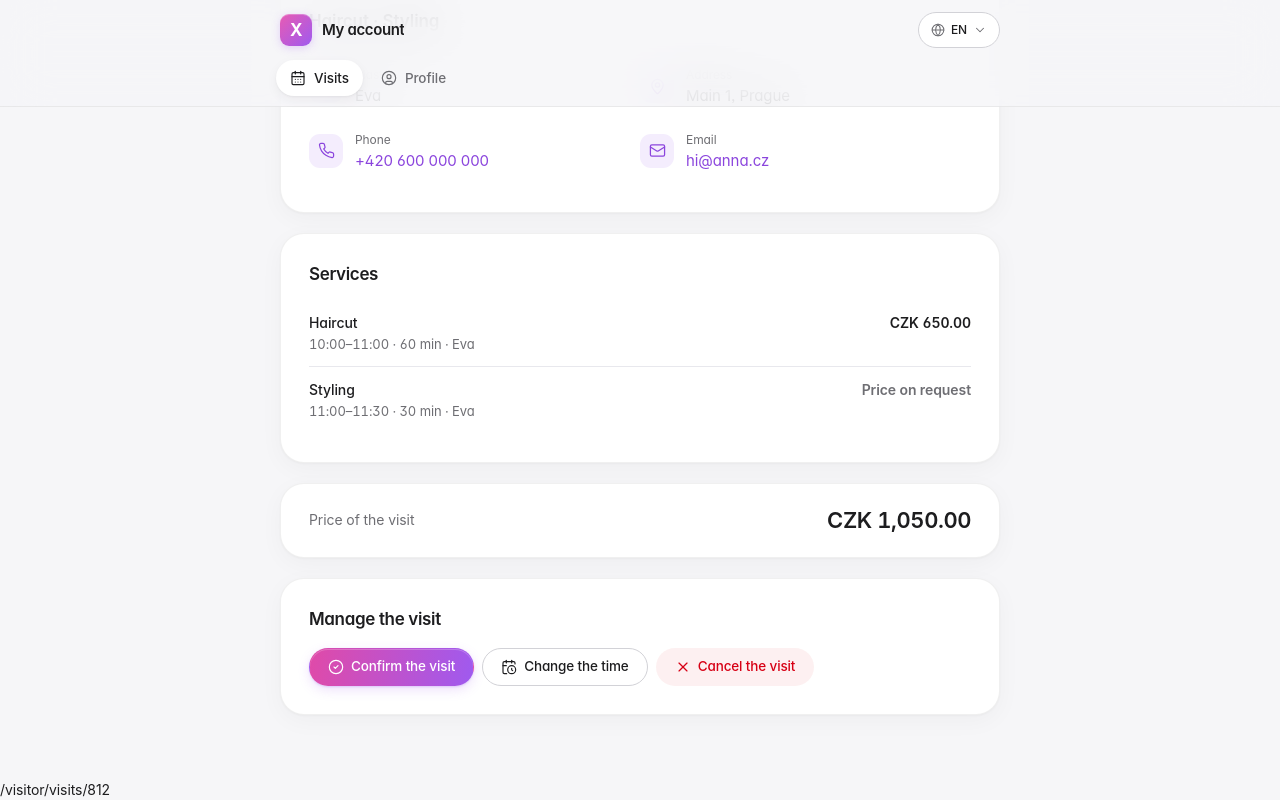
Test: shows a payment in progress as a reason to contact the salon
The width and height of the screenshot is (1280, 800).
(page scrolled)
Step 1. Click the button "Cancel the visit" → point(735, 667), box [656, 648, 814, 686]
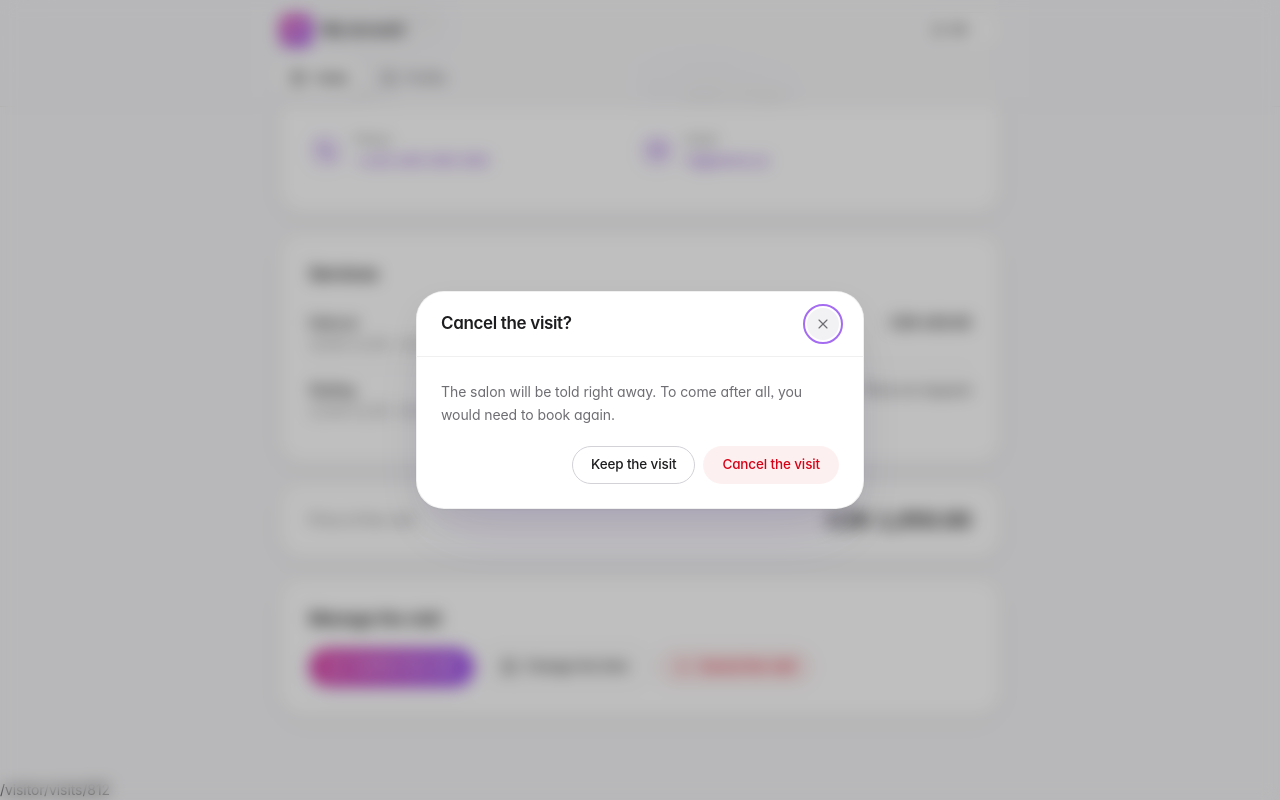
Step 2. Click the button "Cancel the visit" → point(771, 465), box [703, 446, 839, 484]
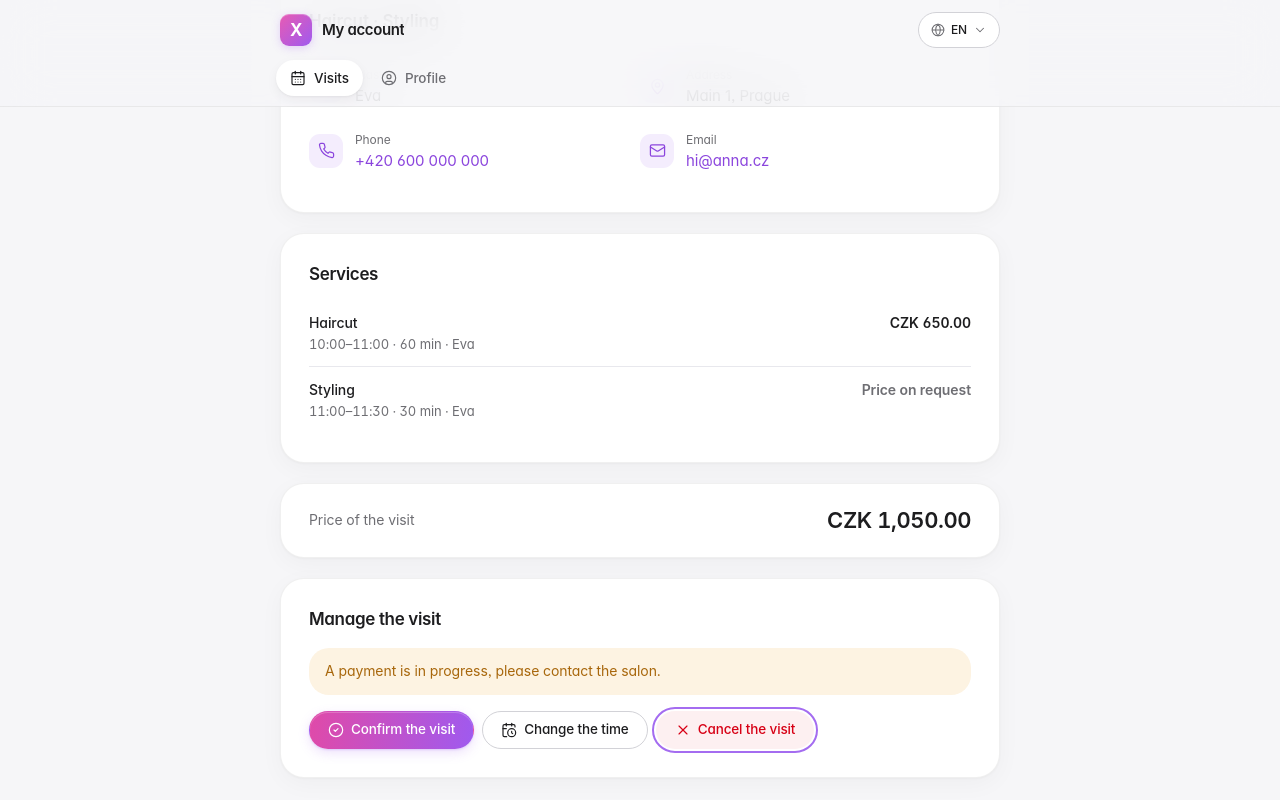
Expected: the message reads "A payment is in progress, please contact the salon.", [325, 662, 661, 679]
